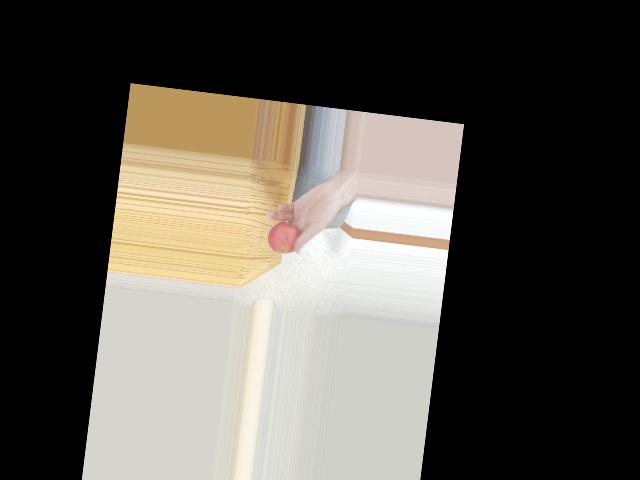apple: (265, 214, 306, 256)
